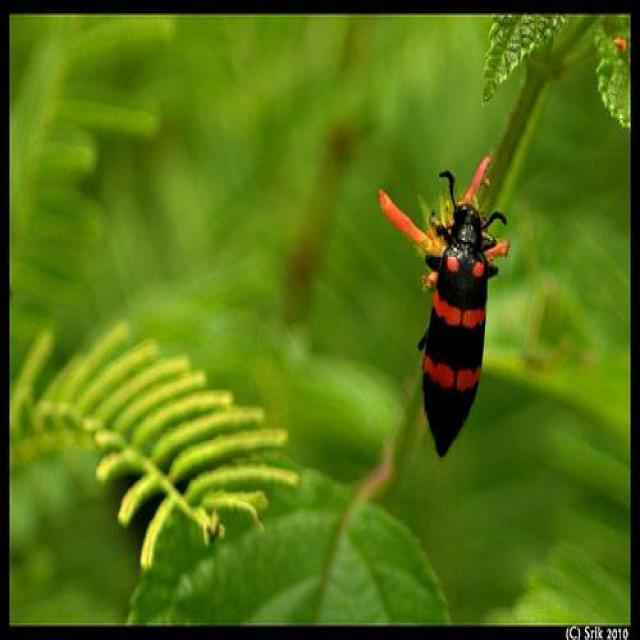BlisterBeetle-Adult-: (412, 158, 516, 468)
